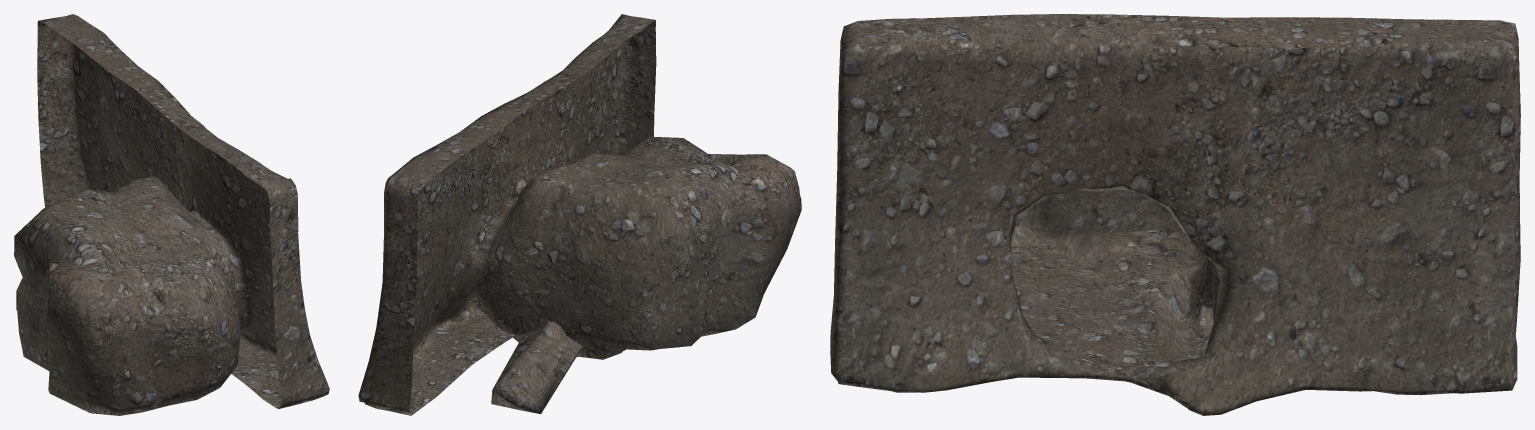
File: cave_resting_room_01.dae
3 views of the same model, side by side, from view 1: azimuth 30°, elevation 25°; view 2: azimuth 150°, elevation 25°; view 3: azimuth 270°, elevation 25° (orthographic). The views are drawn at different scales.
Parts seen in each view (by area): view 1: cliff_1; view 2: cliff_1; view 3: cliff_1.
Boxes of the visible parts, bbox=[...] form: cliff_1: bbox=[14, 14, 329, 415]; cliff_1: bbox=[358, 14, 801, 415]; cliff_1: bbox=[830, 14, 1520, 415].
Size of the model in its own units: 4.54 by 4.09 by 7.26.
Materials: 1 (1 with a texture image).
